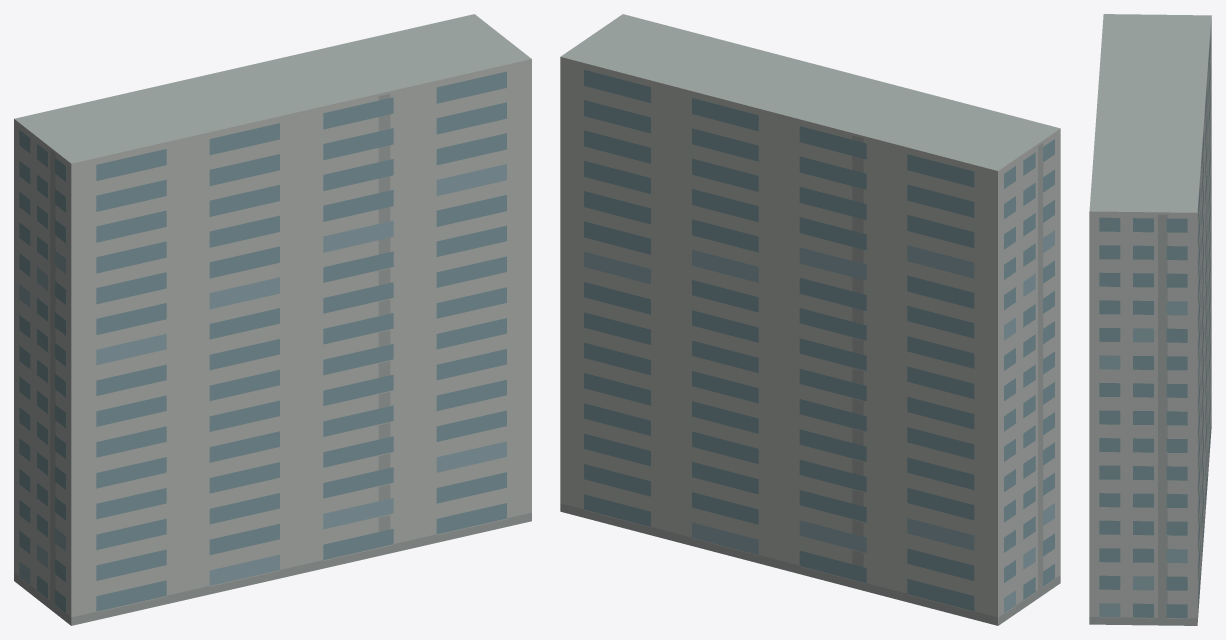
The model's file is residential-19e56d3b-19a2-4f09-940f-7da001601c75.glb.
3 renders of one model, left to right at view 1: azimuth 30°, elevation 25°; view 2: azimuth 150°, elevation 25°; view 3: azimuth 270°, elevation 25°, orthographic. The views are drawn at different scales.
Parts seen in each view (by area): view 1: residential-19e56d3b-19a2-4f09-940f-7da001601c75.tmp; view 2: residential-19e56d3b-19a2-4f09-940f-7da001601c75.tmp; view 3: residential-19e56d3b-19a2-4f09-940f-7da001601c75.tmp.
Boxes of the visible parts, x1,y1,x2,y2 form: residential-19e56d3b-19a2-4f09-940f-7da001601c75.tmp: (14, 14, 531, 625); residential-19e56d3b-19a2-4f09-940f-7da001601c75.tmp: (560, 14, 1060, 625); residential-19e56d3b-19a2-4f09-940f-7da001601c75.tmp: (1089, 14, 1211, 625).
Bounding box in the file's own units: 47.23 × 45.75 × 12.26.
